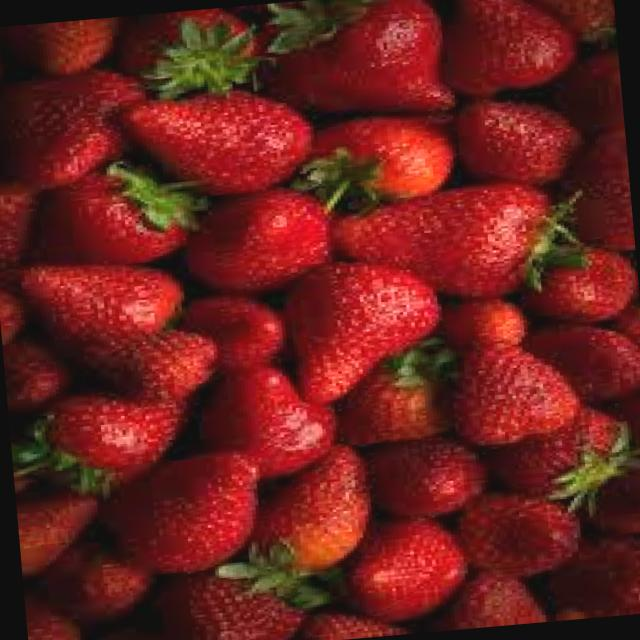strawberry: (354, 165, 572, 282), (261, 0, 466, 124), (290, 252, 450, 408), (122, 77, 323, 196), (225, 439, 378, 592), (10, 51, 163, 198), (109, 442, 268, 579), (12, 240, 194, 356), (15, 384, 185, 498), (446, 332, 588, 454), (212, 348, 340, 476), (454, 0, 586, 110), (348, 522, 479, 616), (457, 95, 577, 183)
